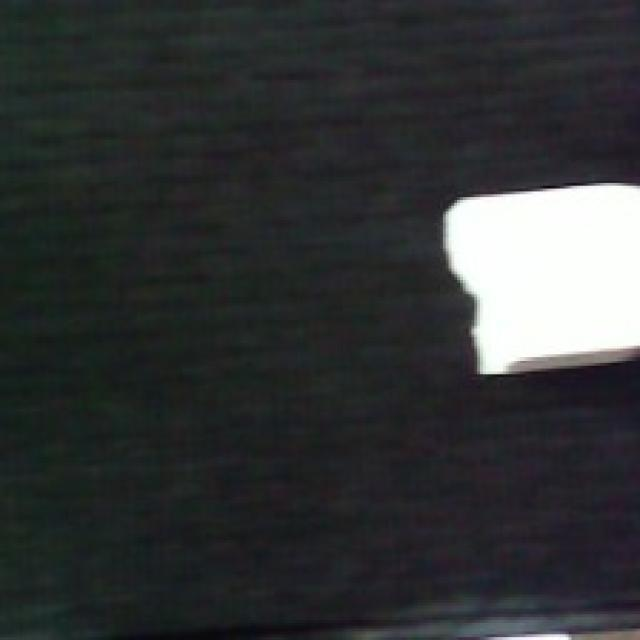defected: (440, 174, 637, 383)
